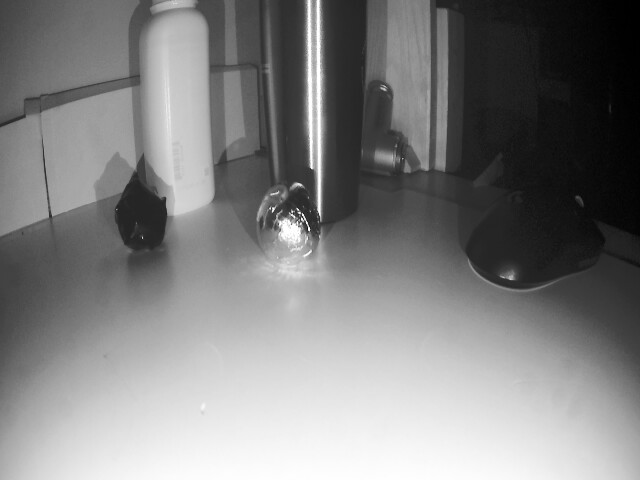black: (249, 178, 325, 269)
silver: (111, 171, 171, 253)
